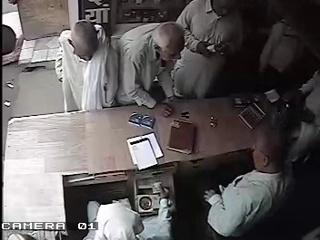Normal: (202, 115, 296, 239), (172, 0, 245, 100), (115, 22, 186, 118), (58, 20, 119, 112)
